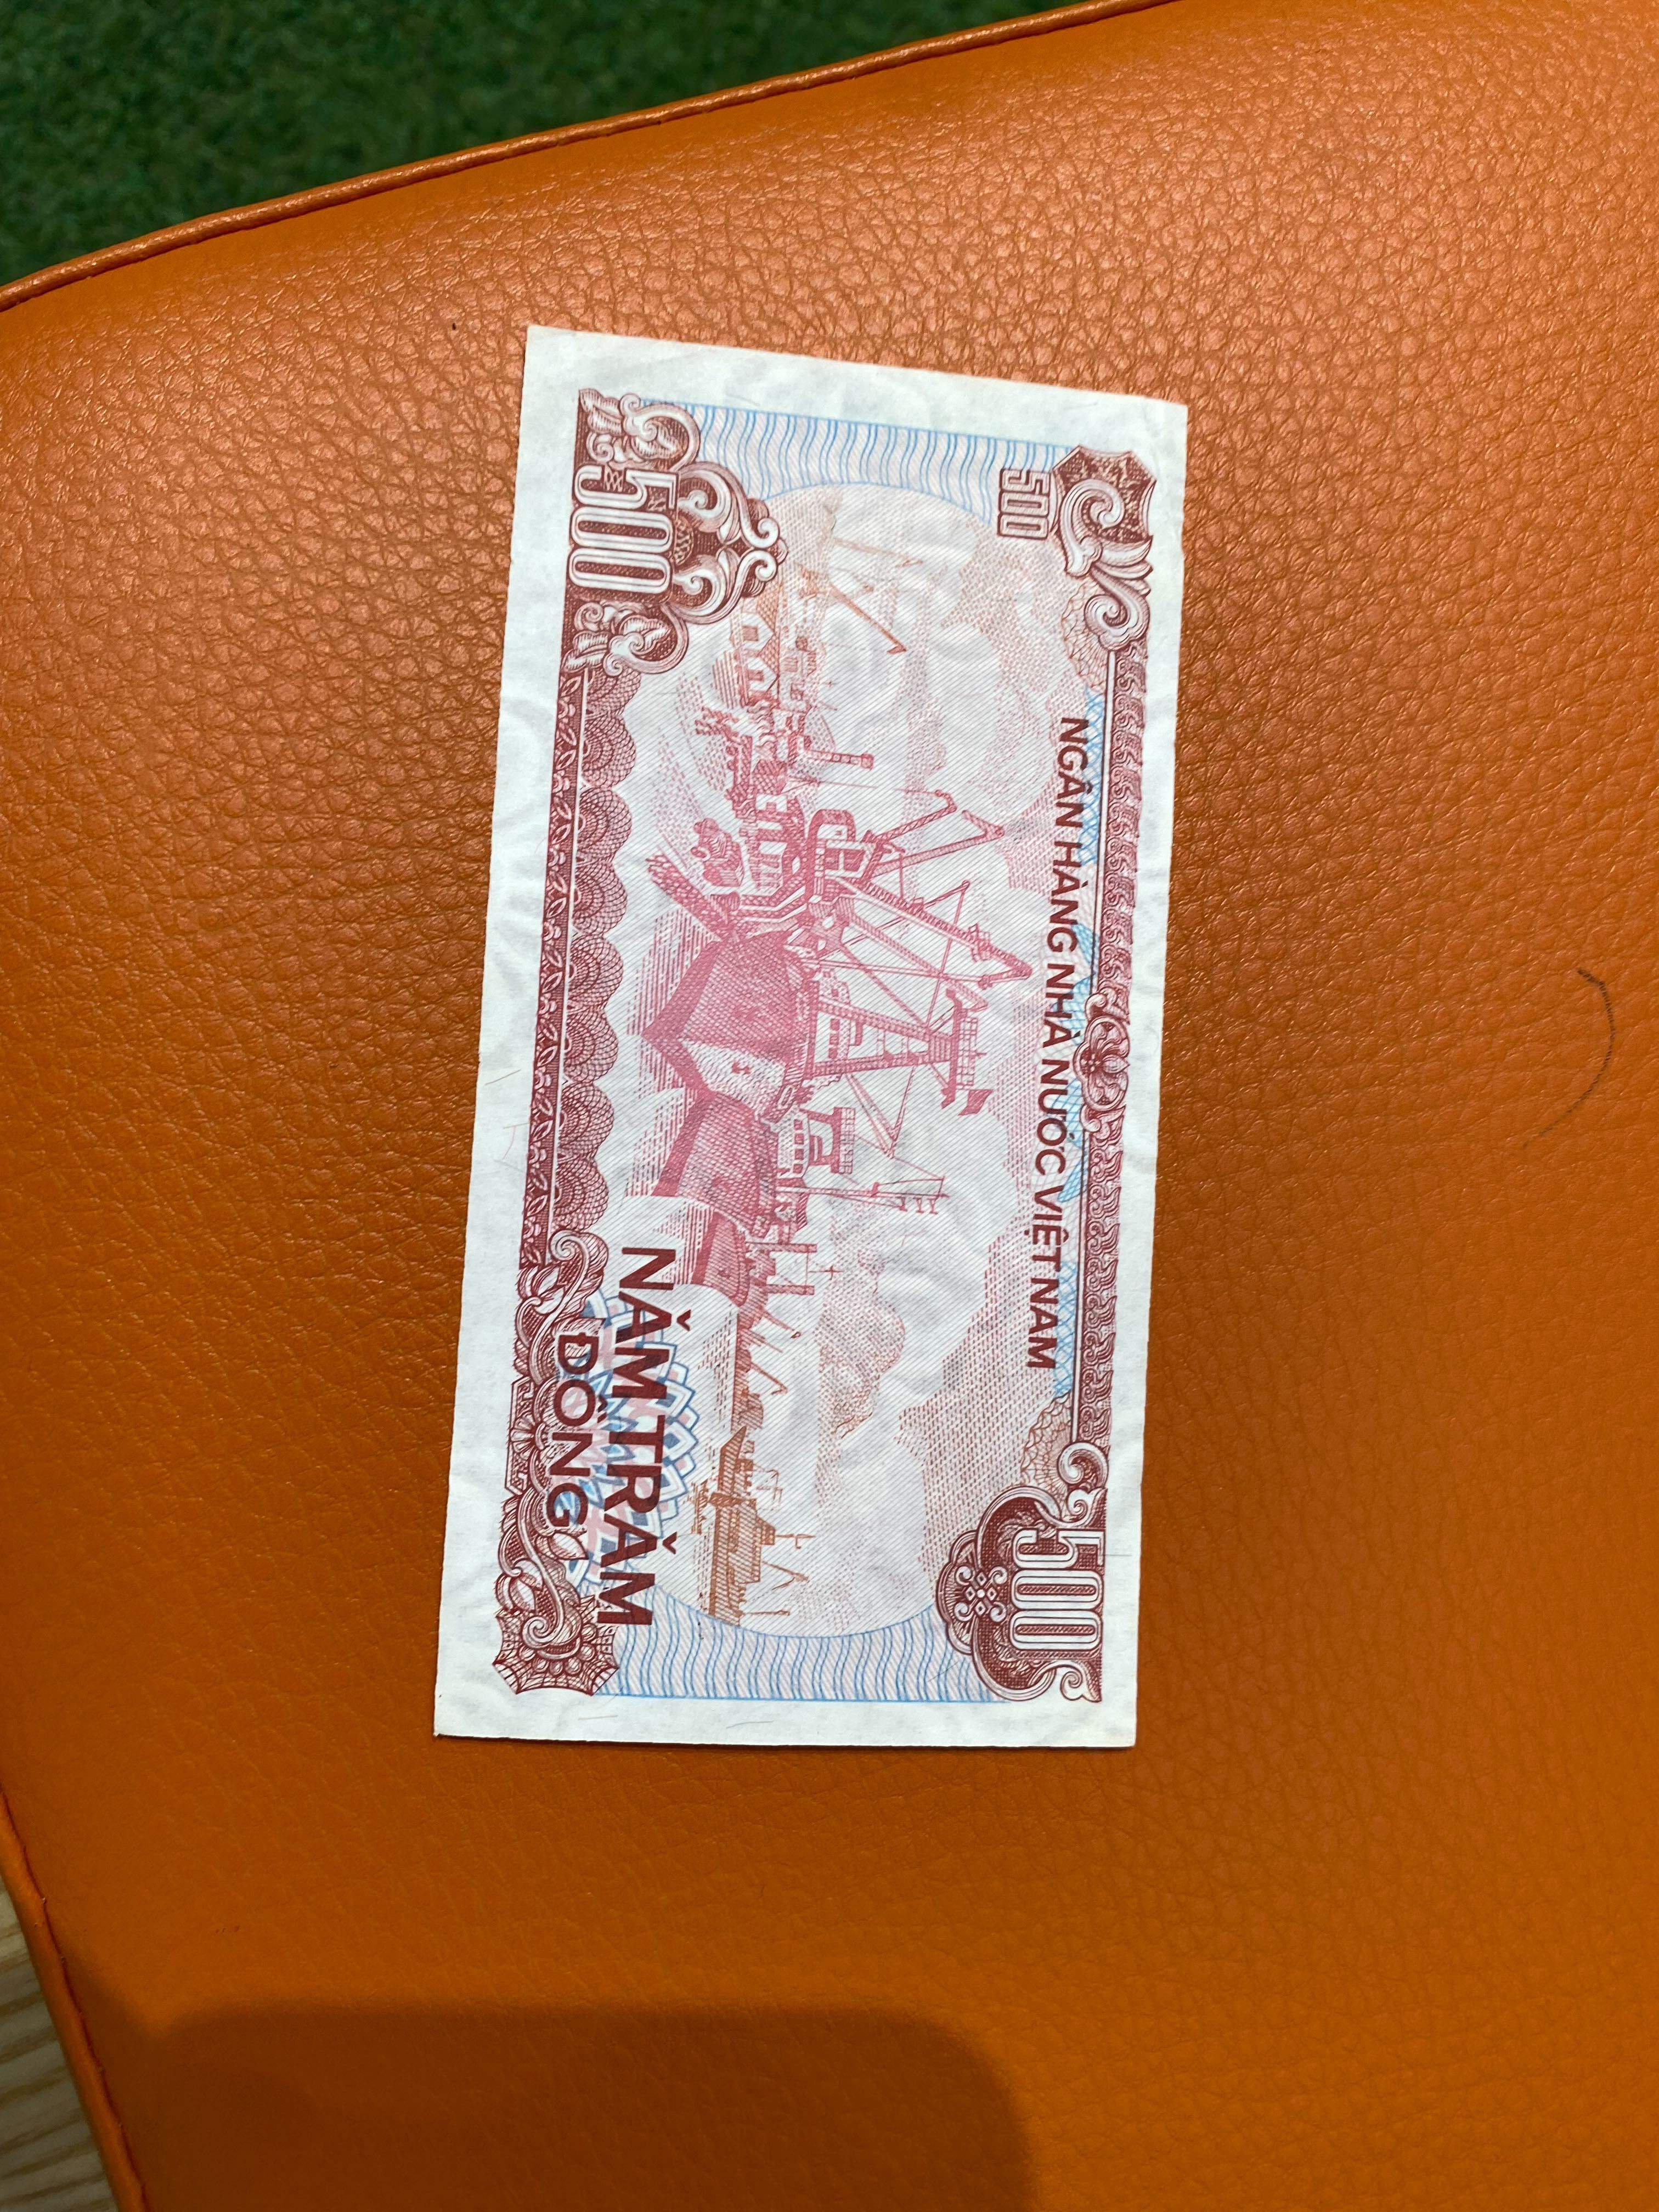500vnd: (437, 322, 1185, 1752)
